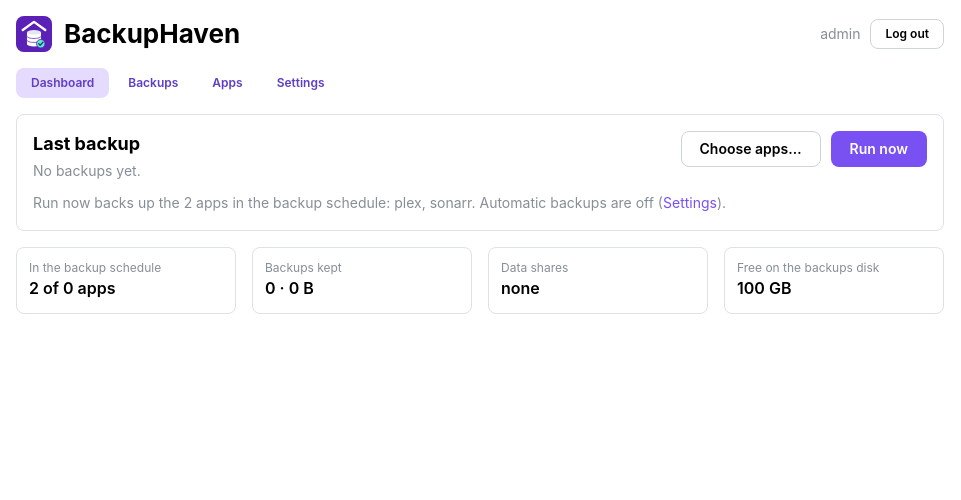
Test case: starts a backup and shows its progress
Expected: the text "backs up the 2 apps in the backup schedule: plex, sonarr" is shown, [33,194,726,211]
Click the button "Run now". click: [879, 149]
box: [831,131,927,167]
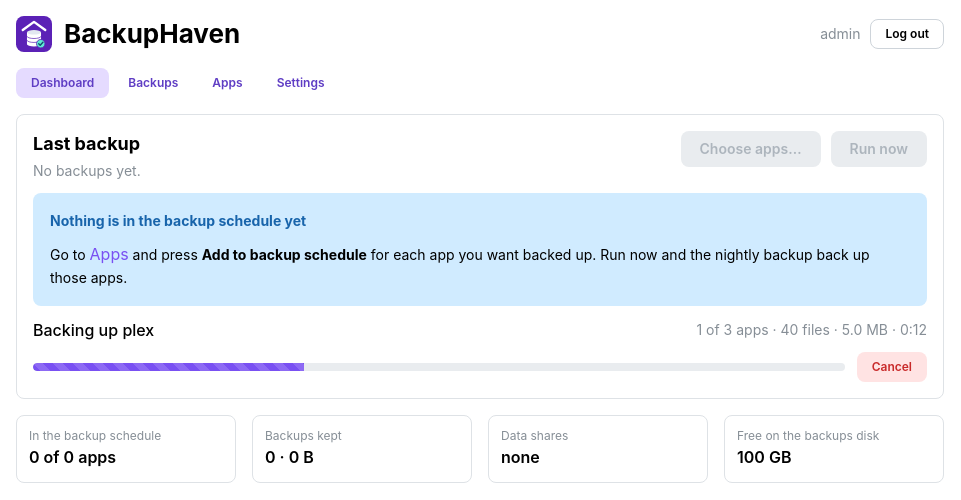
Result: the text "Backing up plex" is shown at [33,318,154,342]
Result: the text "1 of 3 apps · 40 files · 5.0 MB · 0:12" is shown at [696,320,927,340]
Result: the button "Run now" is disabled at [831,131,927,167]
